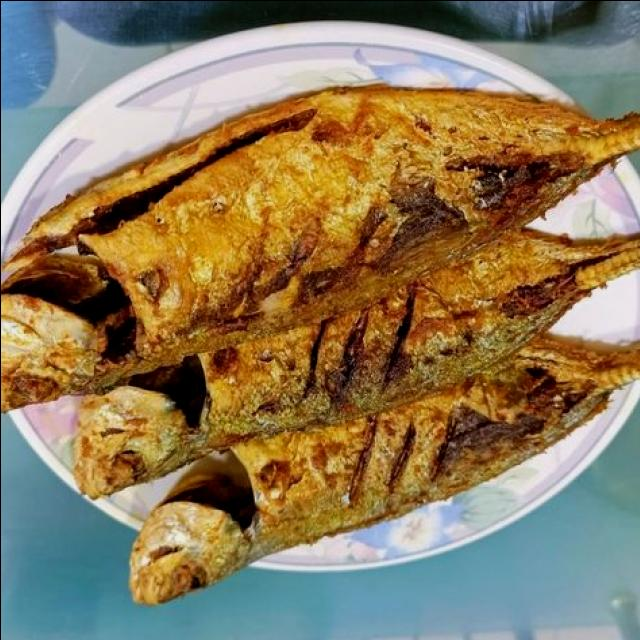ikan goreng: (0, 85, 640, 412), (72, 228, 640, 498), (108, 325, 640, 605)
